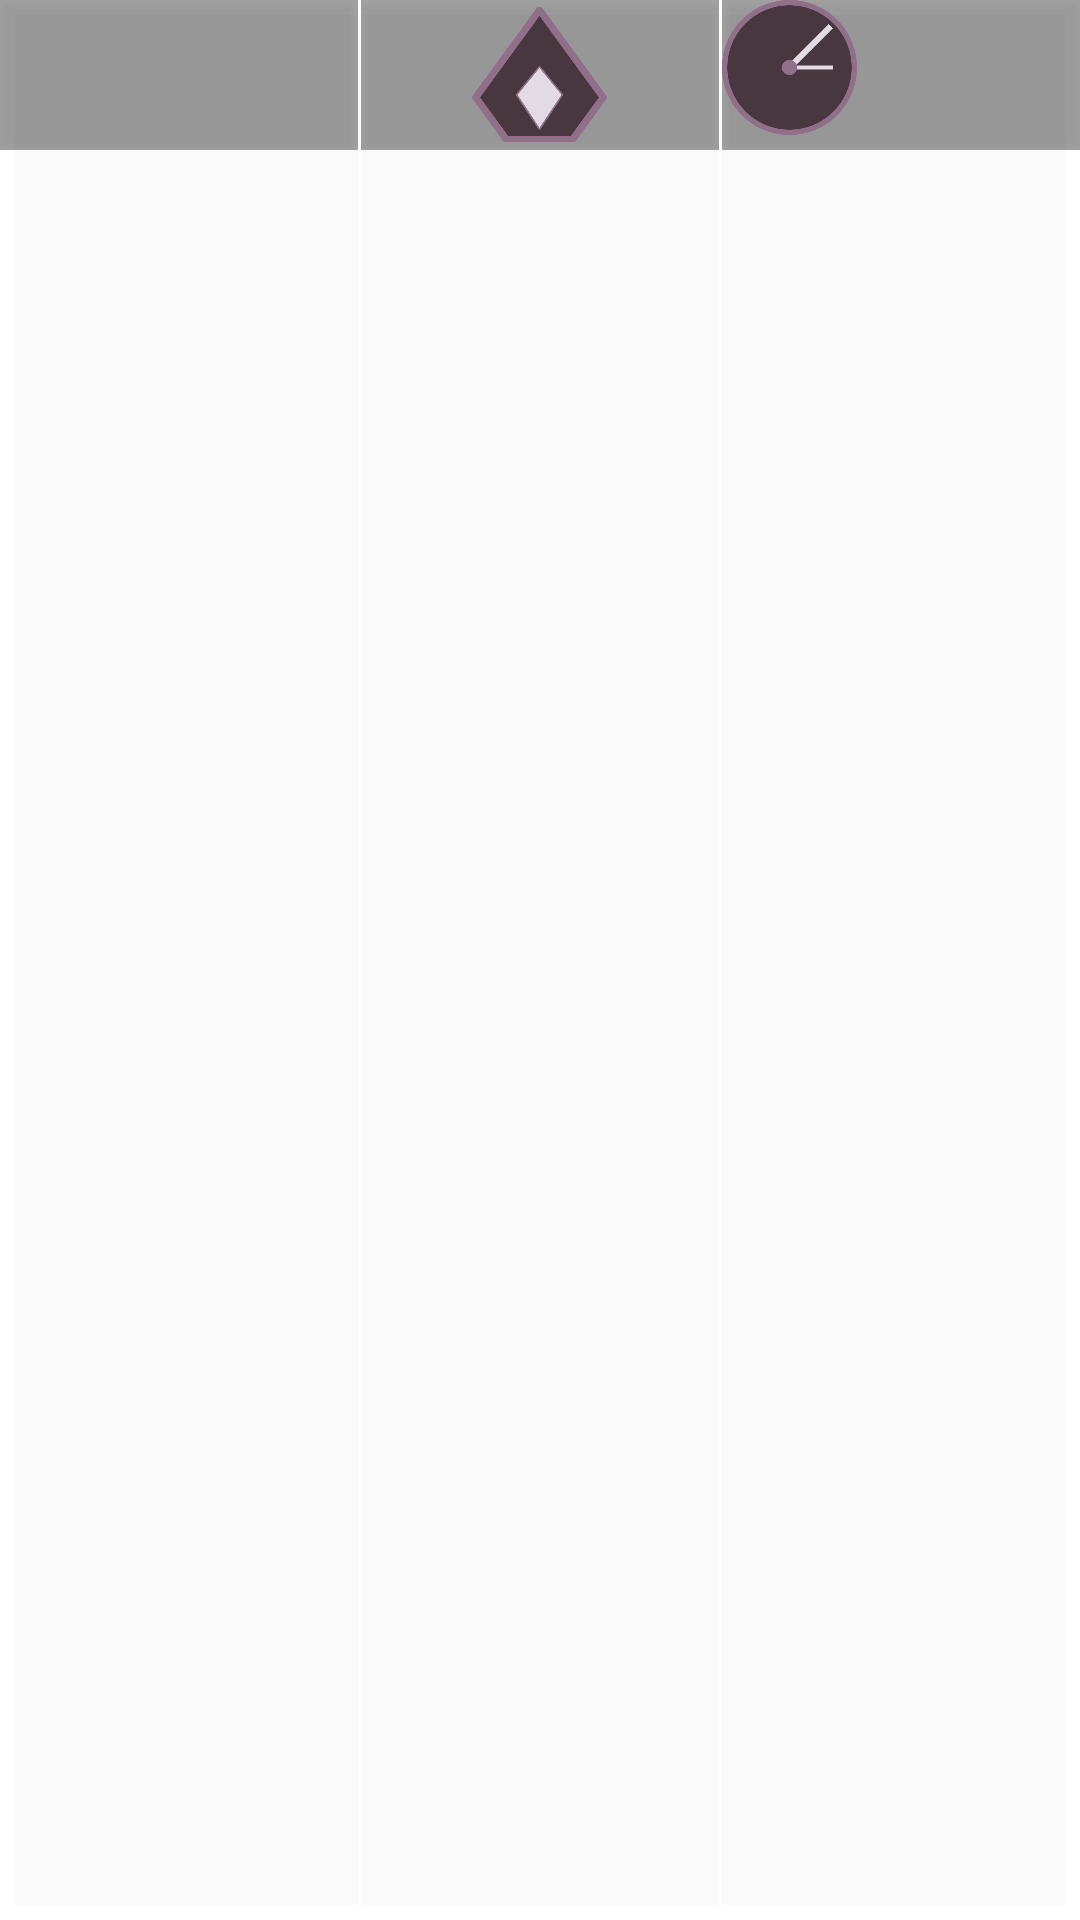

Screen size 1080px×1920px. Icon name, then its box in pixels as region(x1, y1, x2, y2):
clock: region(722, 0, 857, 135)
